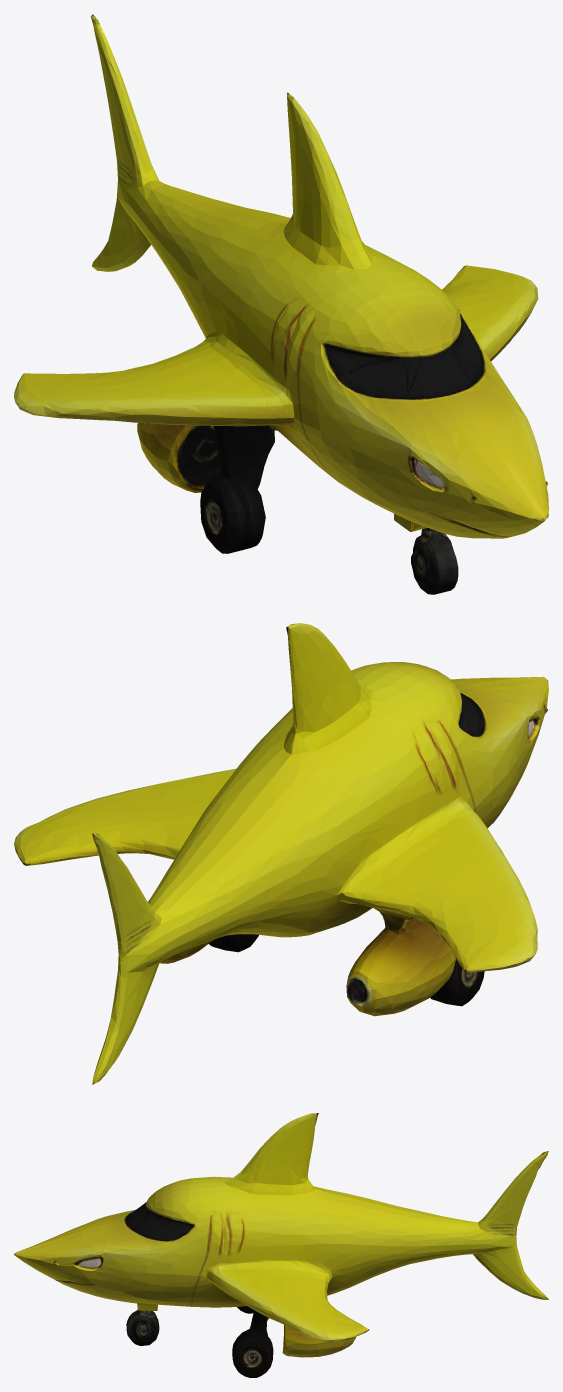
3 views of the same model, one above another, from view 1: azimuth 30°, elevation 25°; view 2: azimuth 150°, elevation 25°; view 3: azimuth 270°, elevation 25° (orthographic). The views are drawn at different scales.
Visible parts, largest first — view 1: world; view 2: world; view 3: world.
Boxes of the visible parts, left/top/right/bottom form: world: left=14, top=14, right=548, bottom=594; world: left=14, top=623, right=548, bottom=1084; world: left=14, top=1113, right=548, bottom=1377.
Size of the model in its own units: 0.6551 by 0.4763 by 1.
Materials: 1 (1 with a texture image).
